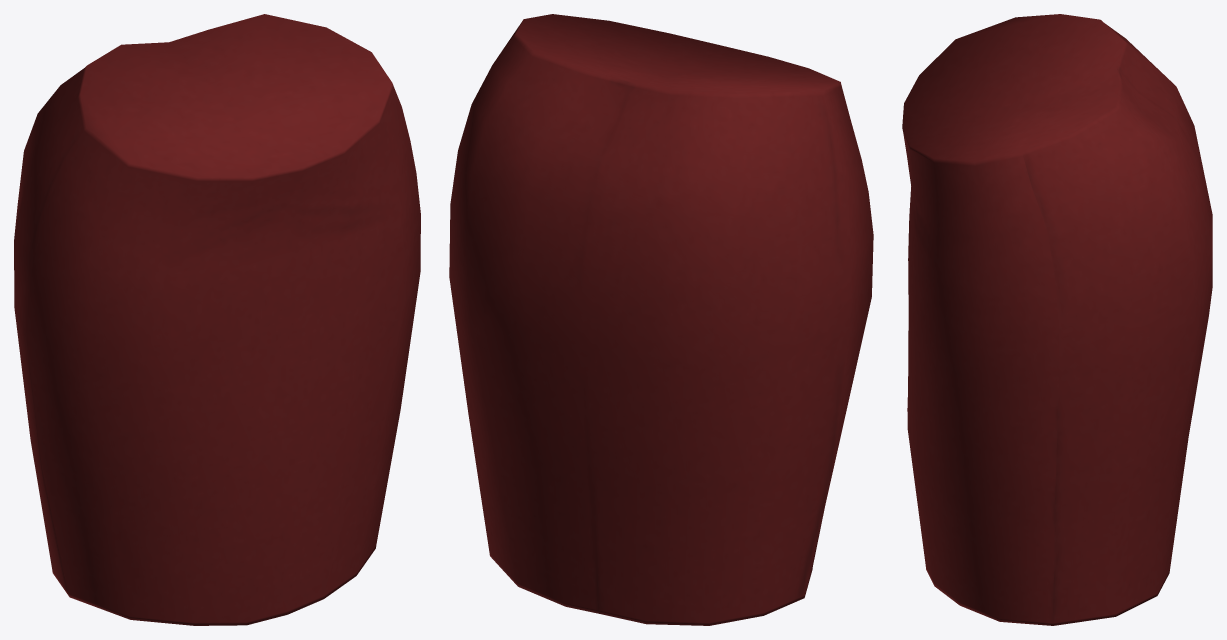
Rendered from skirttest.fbx.
3 views of the same model, side by side, from view 1: azimuth 30°, elevation 25°; view 2: azimuth 150°, elevation 25°; view 3: azimuth 270°, elevation 25° (orthographic). The views are drawn at different scales.
Visible parts, largest first — view 1: finaltry:Bottoms; view 2: finaltry:Bottoms; view 3: finaltry:Bottoms.
Boxes of the visible parts, box(x1,y1,x2,y2) form: finaltry:Bottoms: box(14, 14, 420, 625); finaltry:Bottoms: box(449, 14, 873, 625); finaltry:Bottoms: box(902, 14, 1212, 625).
Size of the model in its own units: 39.37 by 52.18 by 29.33.
